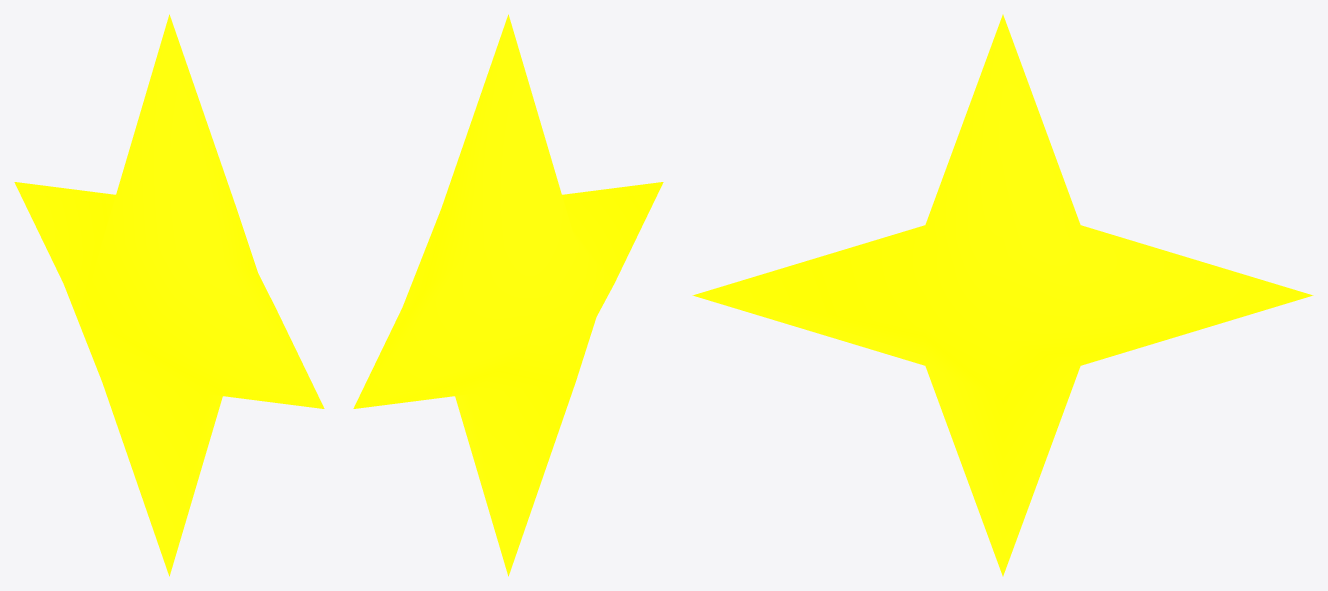
The model's file is 4pointstar_24.glb.
3 views of the same model, side by side, from view 1: azimuth 30°, elevation 25°; view 2: azimuth 150°, elevation 25°; view 3: azimuth 270°, elevation 25° (orthographic).
Visible parts, largest first — view 1: 4pointstar_24; view 2: 4pointstar_24; view 3: 4pointstar_24.
Boxes of the visible parts, bbox=[...] form: 4pointstar_24: bbox=[14, 14, 324, 576]; 4pointstar_24: bbox=[353, 14, 663, 576]; 4pointstar_24: bbox=[692, 14, 1313, 576].
Size of the model in its own units: 2.63 by 8 by 8.
